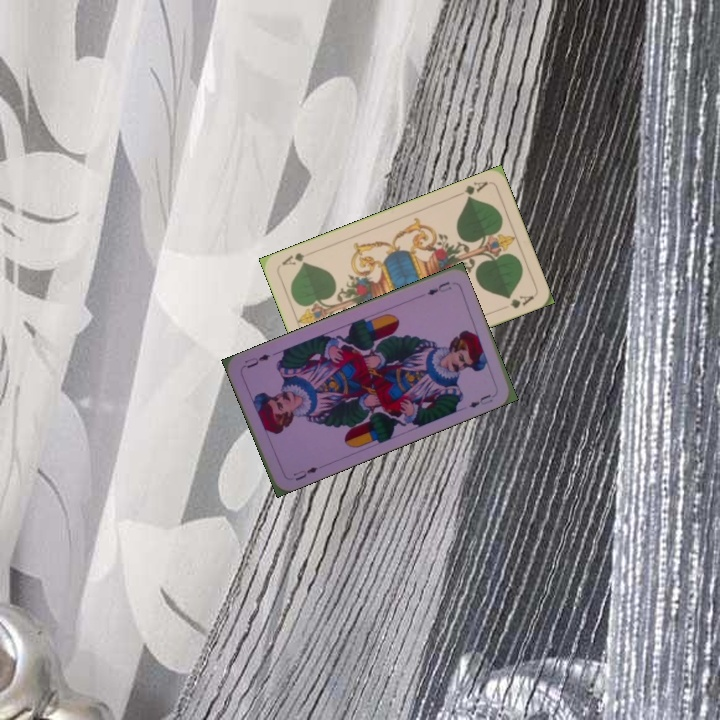EU: (423, 277, 454, 298), (289, 463, 320, 483)
GA: (452, 177, 491, 203)
